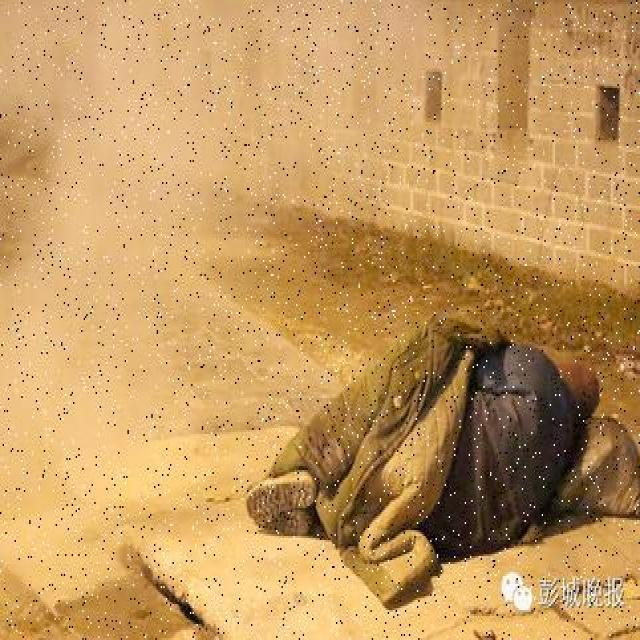fall: (268, 330, 608, 548)
